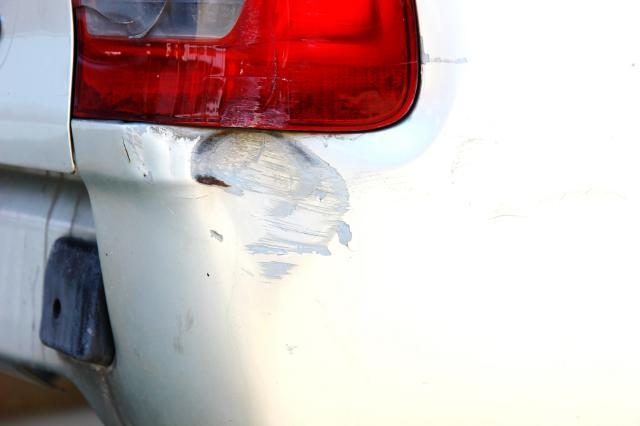dent: (190, 130, 348, 279)
lamp broken: (70, 0, 421, 134)
scratch: (123, 125, 214, 191)
